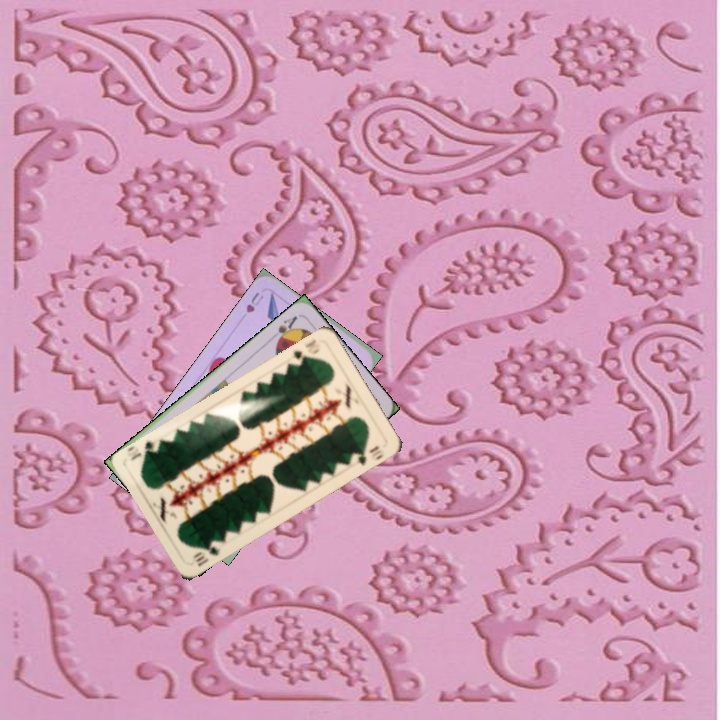G10: (189, 536, 225, 569), (289, 335, 322, 362)
HU: (242, 288, 266, 315)
SA: (267, 312, 300, 347)
